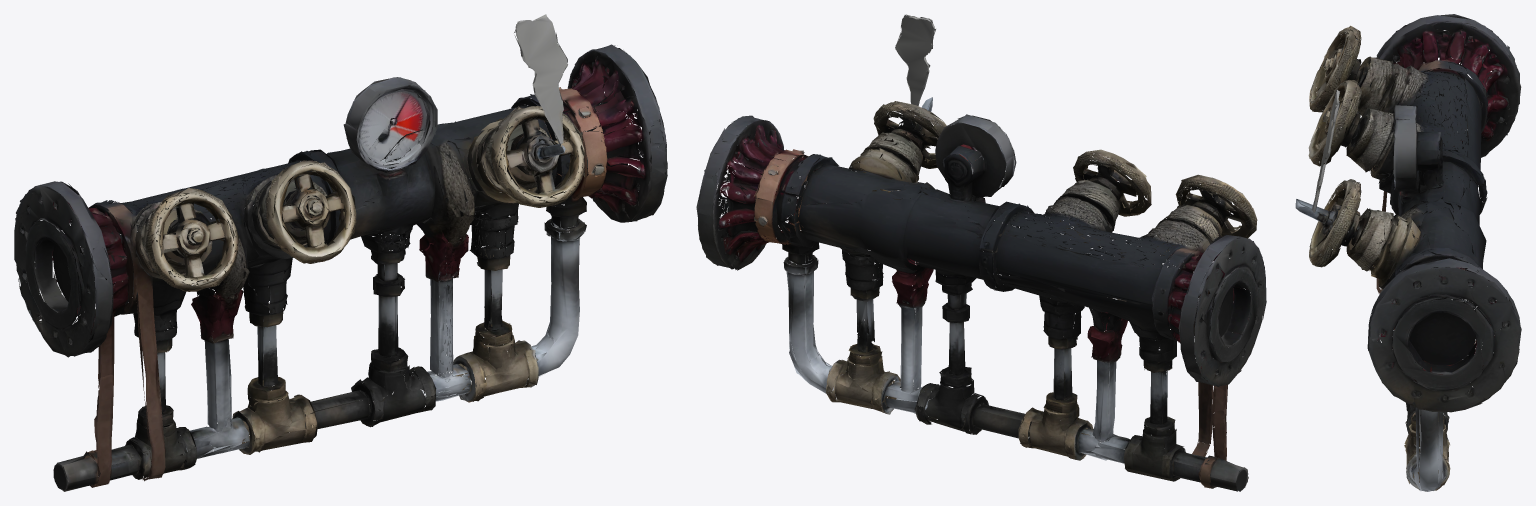
Rendered from quest_reactor_valves.glb.
3 renders of one model, left to right at view 1: azimuth 30°, elevation 25°; view 2: azimuth 150°, elevation 25°; view 3: azimuth 270°, elevation 25°, orthographic. The views are drawn at different scales.
Visible parts, largest first — view 1: node_0; view 2: node_0; view 3: node_0.
Part boxes in pixels (<box>): node_0: <box>14,14,667,491</box>; node_0: <box>696,14,1266,491</box>; node_0: <box>1295,14,1521,491</box>.
Bounding box in the file's own units: 1.01 × 0.6877 × 0.3743.
Materials: 1 (1 with a texture image).
